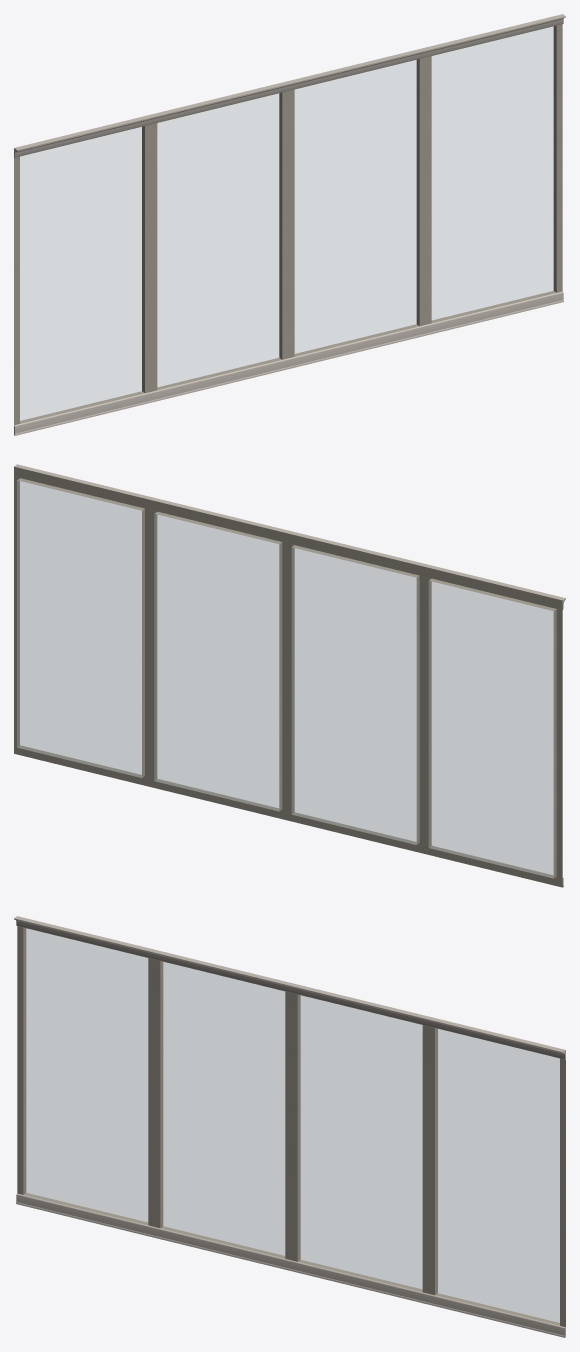
File: Zeum_Wall_Window-Full_Module1x4.fbx
The picture shows the model from 3 angles, top to bottom: view 1: azimuth 30°, elevation 25°; view 2: azimuth 150°, elevation 25°; view 3: azimuth 330°, elevation 25°; orthographic projection.
Parts seen in each view (by area): view 1: pPlane191; view 2: pPlane191; view 3: pPlane191.
Part boxes in pixels (left/top/right/bottom): pPlane191: left=14, top=14, right=565, bottom=435; pPlane191: left=14, top=464, right=565, bottom=887; pPlane191: left=14, top=916, right=565, bottom=1337.
Bounding box in the file's own units: 16 × 8 × 0.3122.
